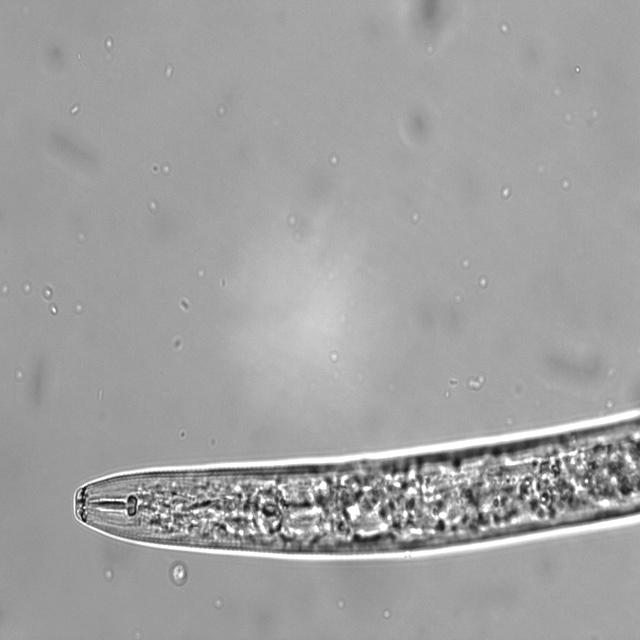Pratylenchus: (68, 398, 640, 565)
